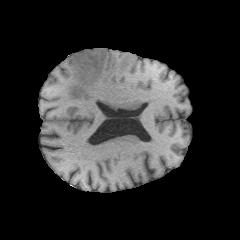glioma: (68, 49, 107, 100)
